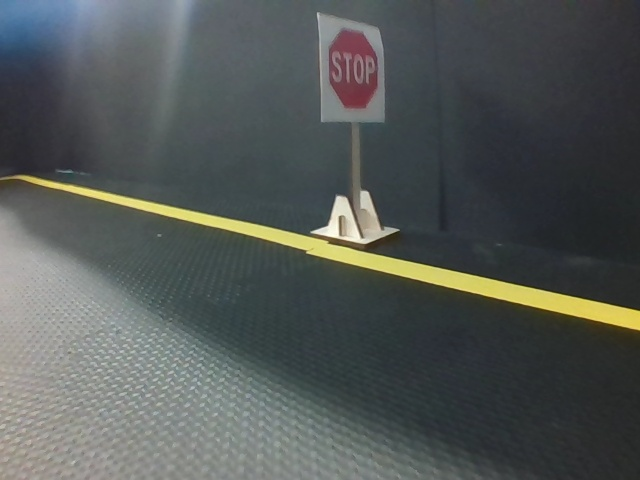stop: (319, 17, 384, 122)
